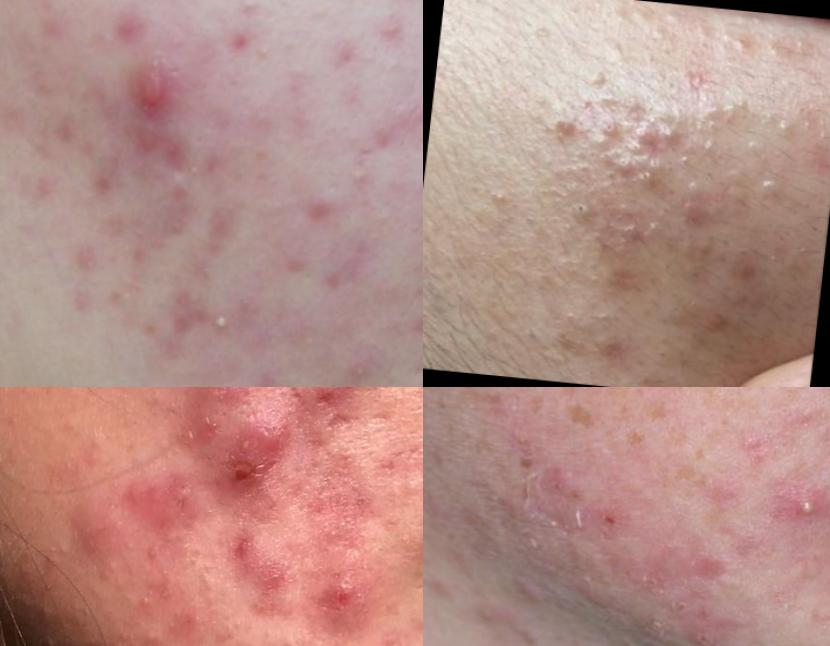acne_scars: (602, 262, 647, 293)
blackhead: (598, 151, 667, 194), (674, 607, 739, 646), (553, 191, 597, 229), (676, 175, 704, 221), (749, 171, 783, 204), (623, 121, 654, 157), (611, 220, 639, 249), (669, 147, 698, 174), (581, 65, 610, 92), (729, 36, 757, 59), (721, 162, 745, 185), (602, 118, 619, 139)
papular: (117, 51, 189, 125), (696, 298, 733, 342), (548, 112, 585, 146), (730, 256, 772, 281), (598, 334, 625, 365)
purulent: (768, 485, 829, 550)
sebo-crystan-conglo: (232, 412, 280, 501), (318, 567, 374, 640), (314, 388, 377, 426)
whitehead: (202, 282, 241, 354), (344, 155, 388, 214), (689, 100, 740, 123), (416, 6, 424, 67), (776, 116, 794, 138)
